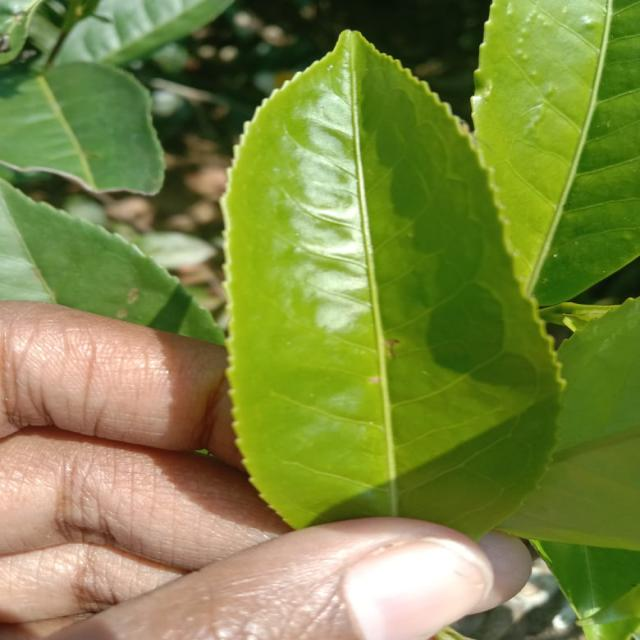Category B 2-4 days: (207, 16, 586, 549)
